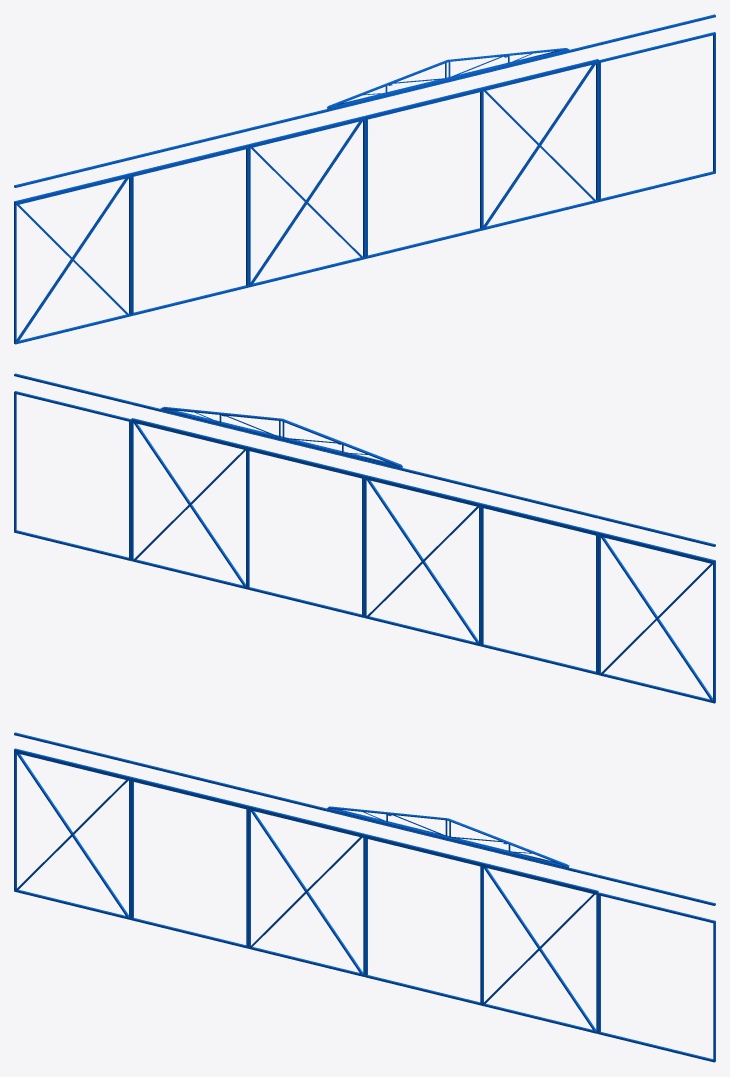
The model's file is W03_Wall_Metal_01.fbx.
3 views of the same model, one above another, from view 1: azimuth 30°, elevation 25°; view 2: azimuth 150°, elevation 25°; view 3: azimuth 330°, elevation 25° (orthographic).
Visible parts, largest first — view 1: W03_Wall_Metal_01; view 2: W03_Wall_Metal_01; view 3: W03_Wall_Metal_01.
Boxes of the visible parts, box(x1,y1,x2,y2) form: W03_Wall_Metal_01: box(14, 14, 715, 344); W03_Wall_Metal_01: box(14, 373, 715, 703); W03_Wall_Metal_01: box(14, 732, 715, 1062).
Size of the model in its own units: 4722 by 1146 by 28.01.
